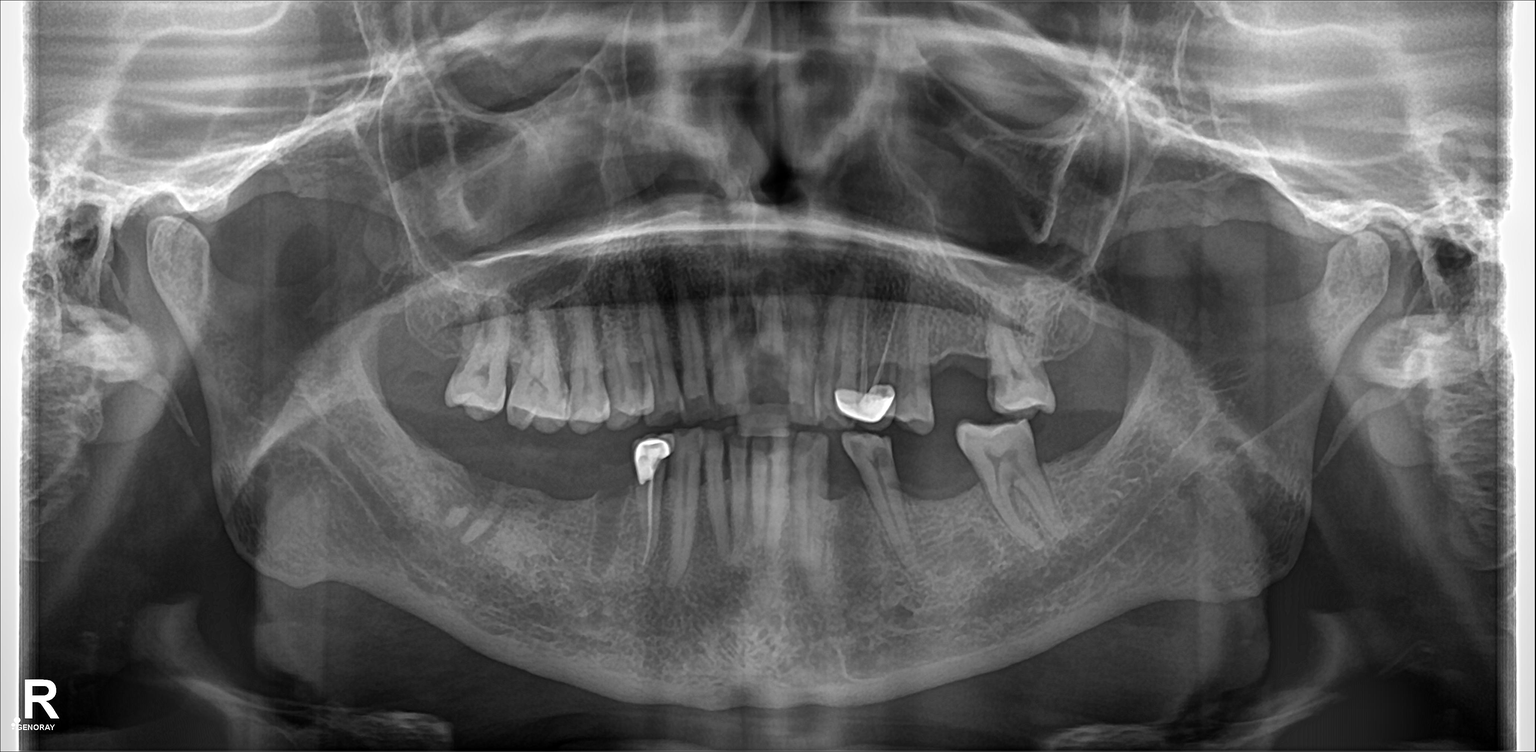Dental Caries: (756, 356, 787, 404), (877, 441, 895, 466)
Endodontically Treated Tooth: (633, 430, 679, 582), (849, 318, 891, 420)
Missing Tooth: (1059, 289, 1110, 410), (1048, 428, 1099, 536), (924, 322, 980, 420), (514, 462, 554, 570), (918, 437, 953, 557), (402, 309, 454, 389), (570, 463, 602, 578), (367, 315, 408, 404), (425, 439, 459, 541), (827, 445, 858, 551)
Retained Root: (464, 452, 504, 560)
